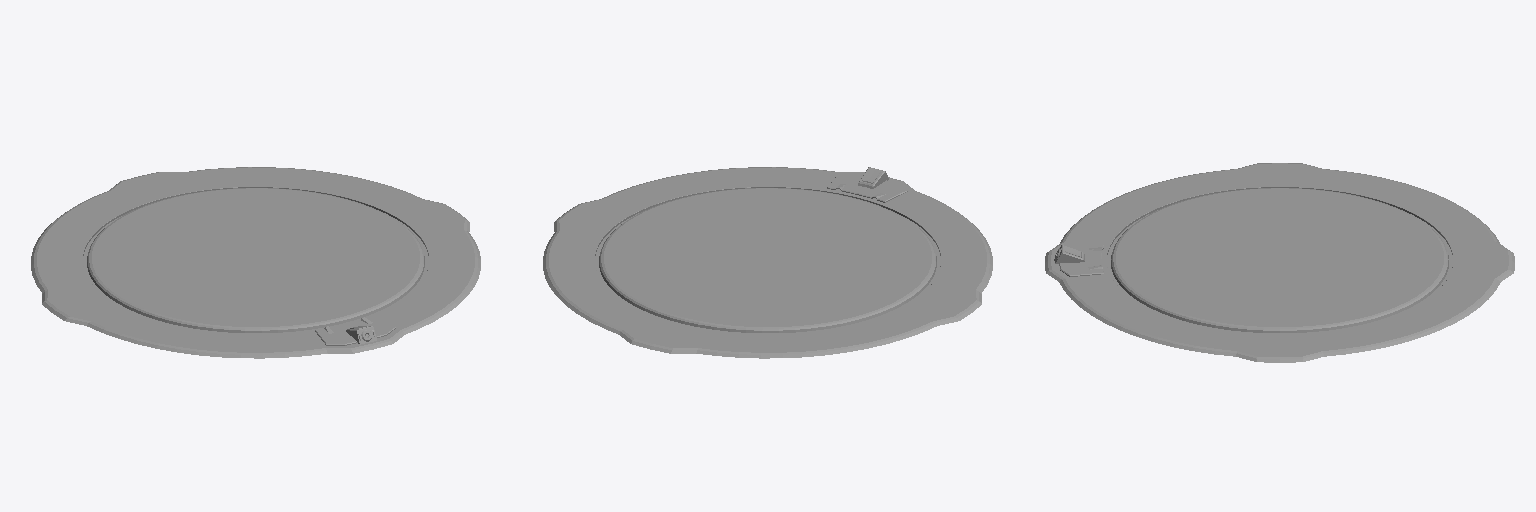
The model's file is SciFiPlatrofm.obj.
3 renders of one model, left to right at view 1: azimuth 30°, elevation 25°; view 2: azimuth 150°, elevation 25°; view 3: azimuth 270°, elevation 25°, orthographic.
Visible parts, largest first — view 1: SciFiPlatform_a_Platform_low_Circle.003, SciFiPlatform_b_Reciever_low_Circle.004; view 2: SciFiPlatform_a_Platform_low_Circle.003, SciFiPlatform_b_Reciever_low_Circle.004; view 3: SciFiPlatform_a_Platform_low_Circle.003, SciFiPlatform_b_Reciever_low_Circle.004.
Boxes of the visible parts, x1,y1,x2,y2 form: SciFiPlatform_a_Platform_low_Circle.003: [31, 167, 480, 358]; SciFiPlatform_b_Reciever_low_Circle.004: [315, 316, 395, 345]; SciFiPlatform_a_Platform_low_Circle.003: [543, 167, 992, 358]; SciFiPlatform_b_Reciever_low_Circle.004: [827, 167, 907, 202]; SciFiPlatform_a_Platform_low_Circle.003: [1045, 163, 1514, 362]; SciFiPlatform_b_Reciever_low_Circle.004: [1054, 242, 1103, 276].
Bounding box in the file's own units: 7.7 × 0.2655 × 7.7.